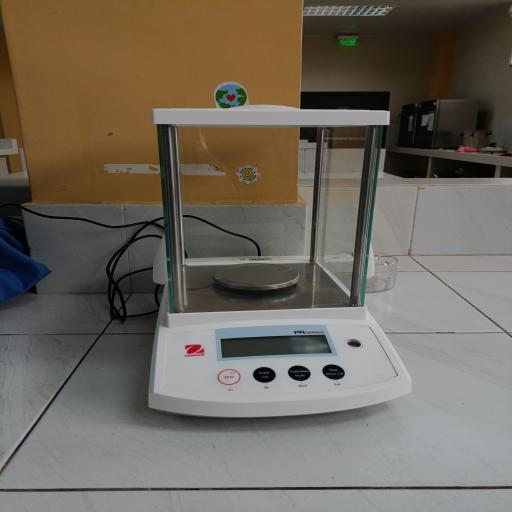Balanza_Analitica_Ohaus: (142, 96, 426, 424)
